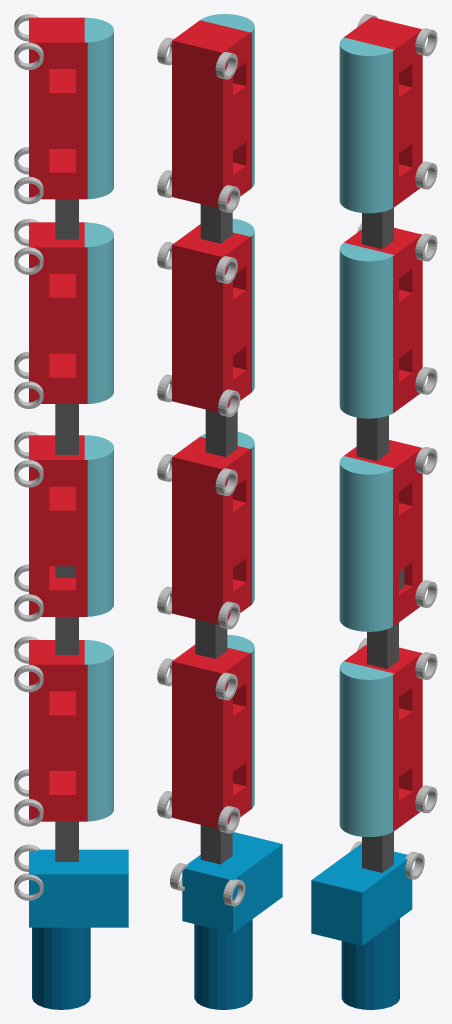
File: tinker.obj
3 views of the same model, side by side, from view 1: azimuth 90°, elevation 25°; view 2: azimuth 150°, elevation 25°; view 3: azimuth 330°, elevation 25° (orthographic).
Visible parts, largest first — view 1: group_0_15277357, group_0_7720667, group_0_40919, group_0_0, group_0_30377, group_0_6513507; view 2: group_0_15277357, group_0_0, group_0_40919, group_0_30377, group_0_6513507, group_0_7720667; view 3: group_0_7720667, group_0_15277357, group_0_40919, group_0_6513507, group_0_0, group_0_30377.
Part boxes in pixels (<box>): group_0_15277357: <box>29,17,87,821</box>; group_0_7720667: <box>84,17,113,821</box>; group_0_40919: <box>29,849,128,927</box>; group_0_0: <box>14,14,43,900</box>; group_0_30377: <box>32,927,90,1009</box>; group_0_6513507: <box>55,199,78,861</box>; group_0_15277357: <box>172,20,251,828</box>; group_0_0: <box>157,37,245,906</box>; group_0_40919: <box>182,832,282,933</box>; group_0_30377: <box>194,919,252,1009</box>; group_0_6513507: <box>195,204,237,864</box>; group_0_7720667: <box>200,14,254,808</box>; group_0_7720667: <box>339,37,394,836</box>; group_0_15277357: <box>344,17,422,831</box>; group_0_40919: <box>311,843,412,945</box>; group_0_6513507: <box>356,208,404,872</box>; group_0_0: <box>350,14,437,879</box>; group_0_30377: <box>341,918,399,1009</box>.
Size of the model in its own units: 29 by 362 by 39.
